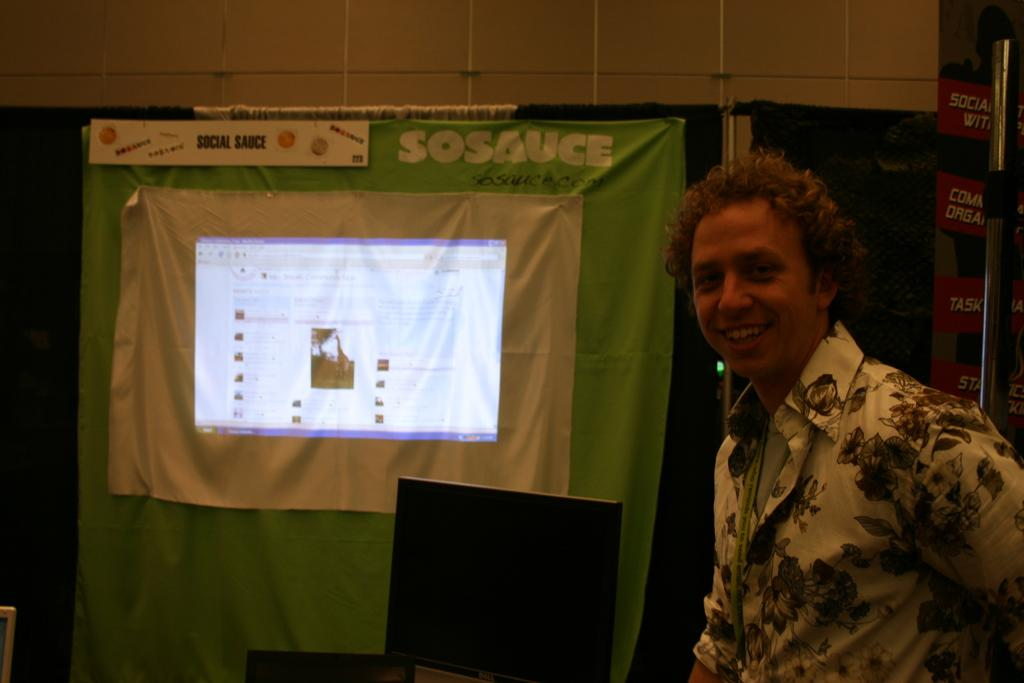Computer-monitor: (380, 488, 654, 670)
